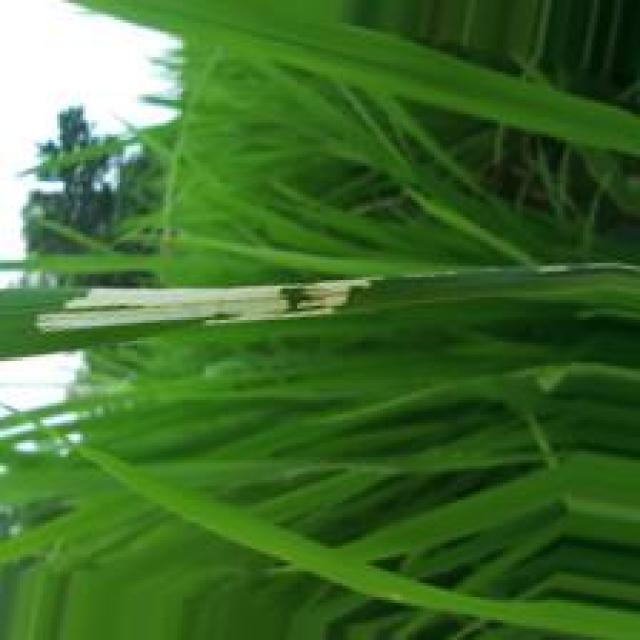Rice_Hispa: (29, 276, 394, 335)
